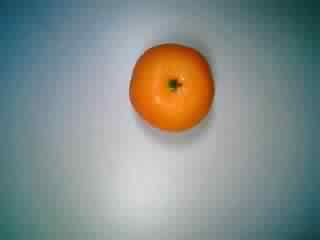orange: (122, 41, 220, 139)
